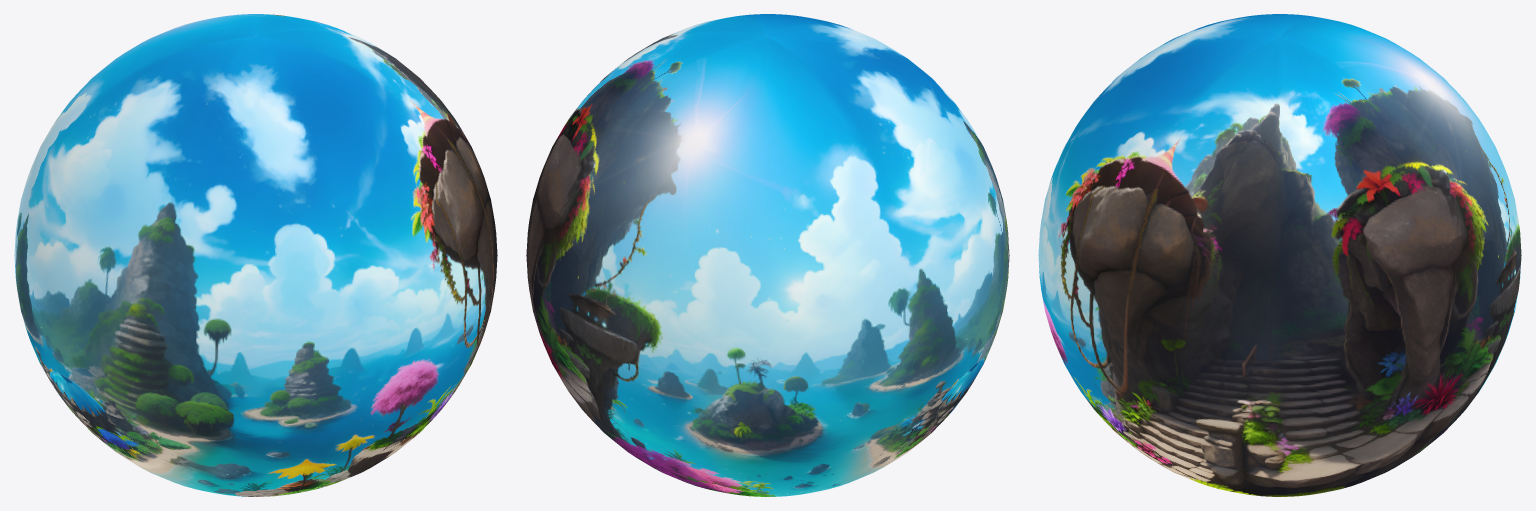
File: skybox.glb
3 renders of one model, left to right at view 1: azimuth 30°, elevation 25°; view 2: azimuth 150°, elevation 25°; view 3: azimuth 270°, elevation 25°, orthographic.
Visible parts, largest first — view 1: Sphere; view 2: Sphere; view 3: Sphere.
Part boxes in pixels (left/top/right/bottom): Sphere: left=14, top=14, right=497, bottom=496; Sphere: left=526, top=14, right=1009, bottom=496; Sphere: left=1038, top=14, right=1521, bottom=496.
Size of the model in its own units: 12.64 by 12.64 by 12.64.
Materials: 1 (1 with a texture image).
